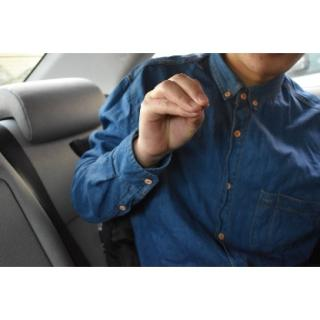HA: (134, 68, 211, 160)
